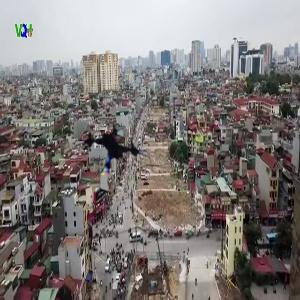drone: (72, 118, 155, 201)
